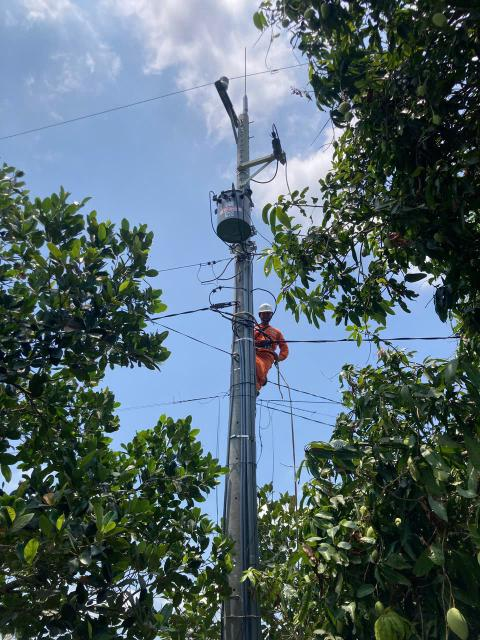gloves: (271, 352, 283, 365)
harness: (252, 338, 281, 354)
helmet: (255, 304, 275, 315)
